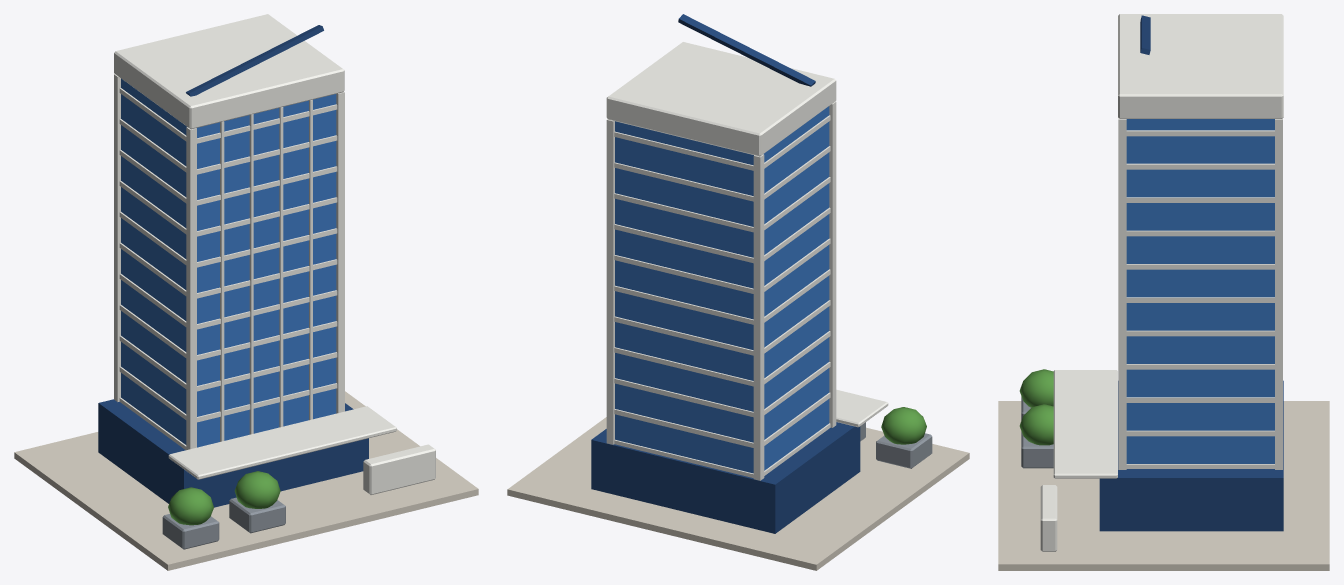
File: sbi_bank.glb
The picture shows the model from 3 angles, left to right: view 1: azimuth 30°, elevation 25°; view 2: azimuth 150°, elevation 25°; view 3: azimuth 270°, elevation 25°; orthographic projection. The views are drawn at different scales.
Parts seen in each view (by area): view 1: building; view 2: building; view 3: building.
Boxes of the visible parts, x1,y1,x2,y2 form: building: (14, 14, 478, 570); building: (507, 14, 969, 570); building: (998, 14, 1329, 570).
Bounding box in the file's own units: 4.2 × 5.71 × 3.6.
